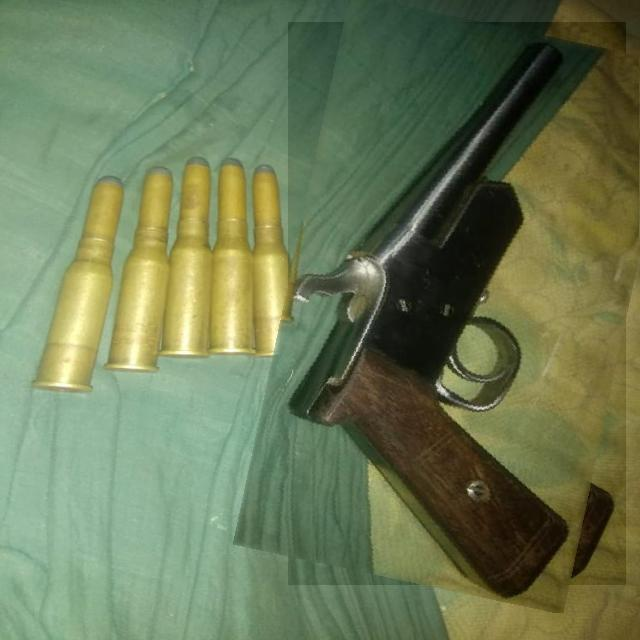handgun: (260, 7, 640, 599)
